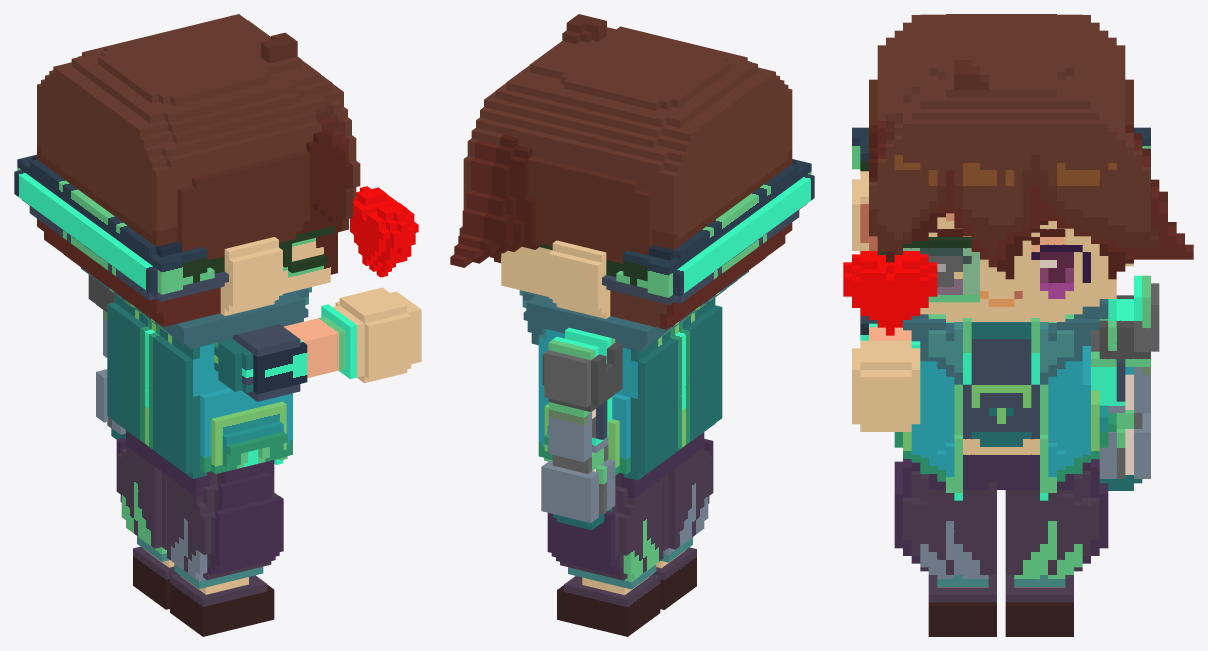
The model's file is 代码师送你一颗小心心.gltf.
3 renders of one model, left to right at view 1: azimuth 30°, elevation 25°; view 2: azimuth 150°, elevation 25°; view 3: azimuth 270°, elevation 25°, orthographic. The views are drawn at different scales.
Visible parts, largest first — view 1: Object; view 2: Object; view 3: Object.
Boxes of the visible parts, x1,y1,x2,y2 form: Object: (14, 14, 421, 636); Object: (450, 14, 814, 636); Object: (843, 14, 1193, 636).
Bounding box in the file's own units: 38 × 75 × 41.
1 material, 1 textured.
